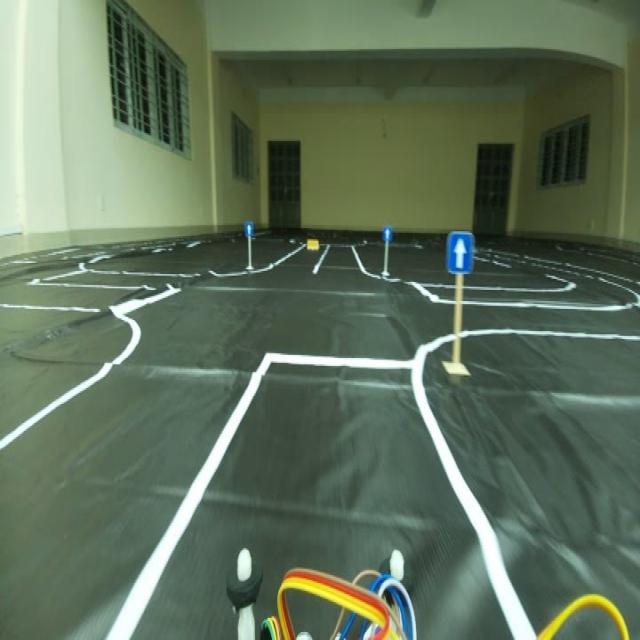onewayroad: (448, 226, 472, 279), (244, 218, 256, 240), (382, 220, 392, 242)
roadblock: (304, 237, 324, 256)
